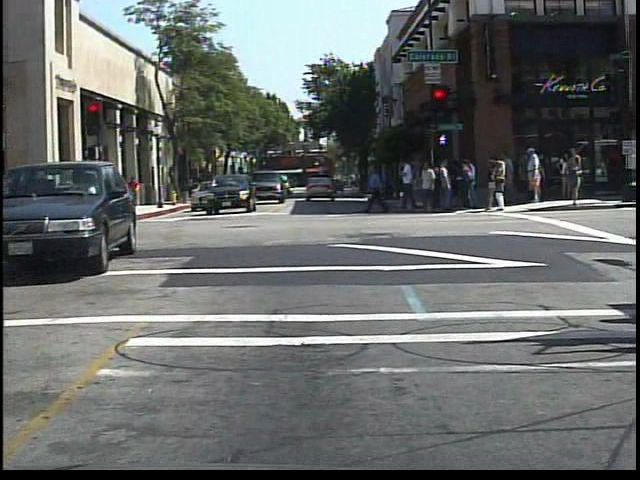person: (522, 147, 548, 206), (34, 172, 58, 232), (2, 175, 24, 229)
